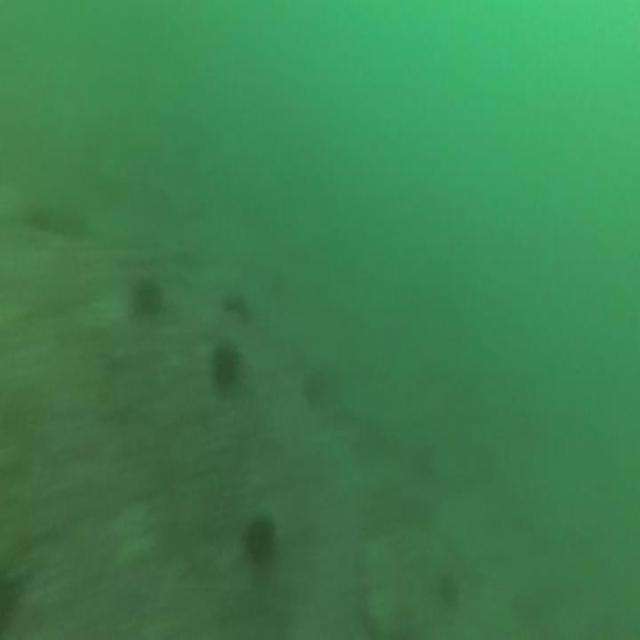echinus: (214, 341, 238, 397), (245, 512, 273, 559), (132, 281, 158, 319)
